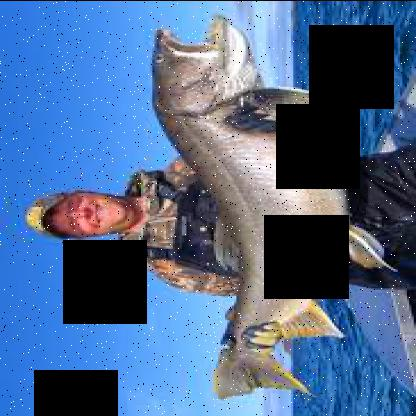fish: (146, 14, 396, 404)
